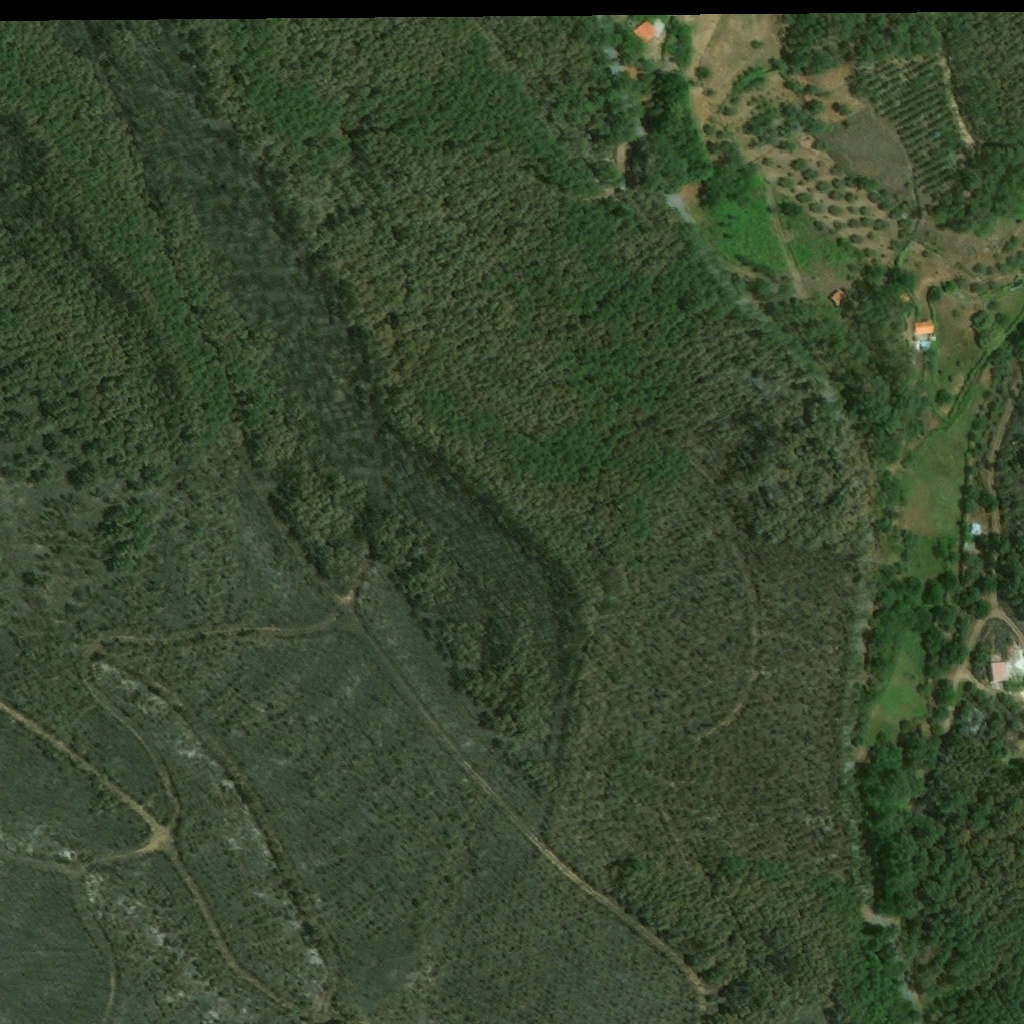0 no-damage: (629, 21, 658, 48), (912, 322, 935, 353), (987, 663, 1007, 682), (829, 290, 846, 308), (897, 292, 910, 306), (962, 543, 976, 554), (970, 524, 981, 536)
4 un-classified: (656, 54, 663, 62)
